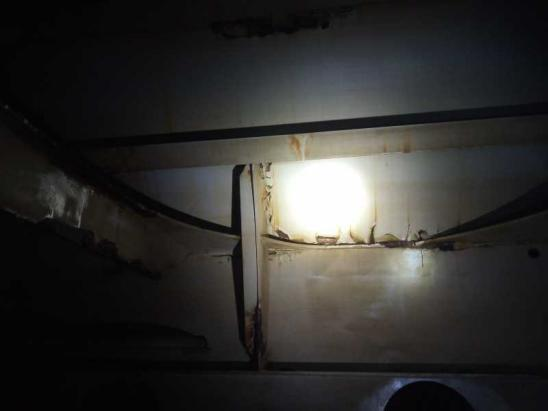corrosion: (256, 161, 284, 230), (284, 129, 320, 164), (389, 128, 414, 161)
